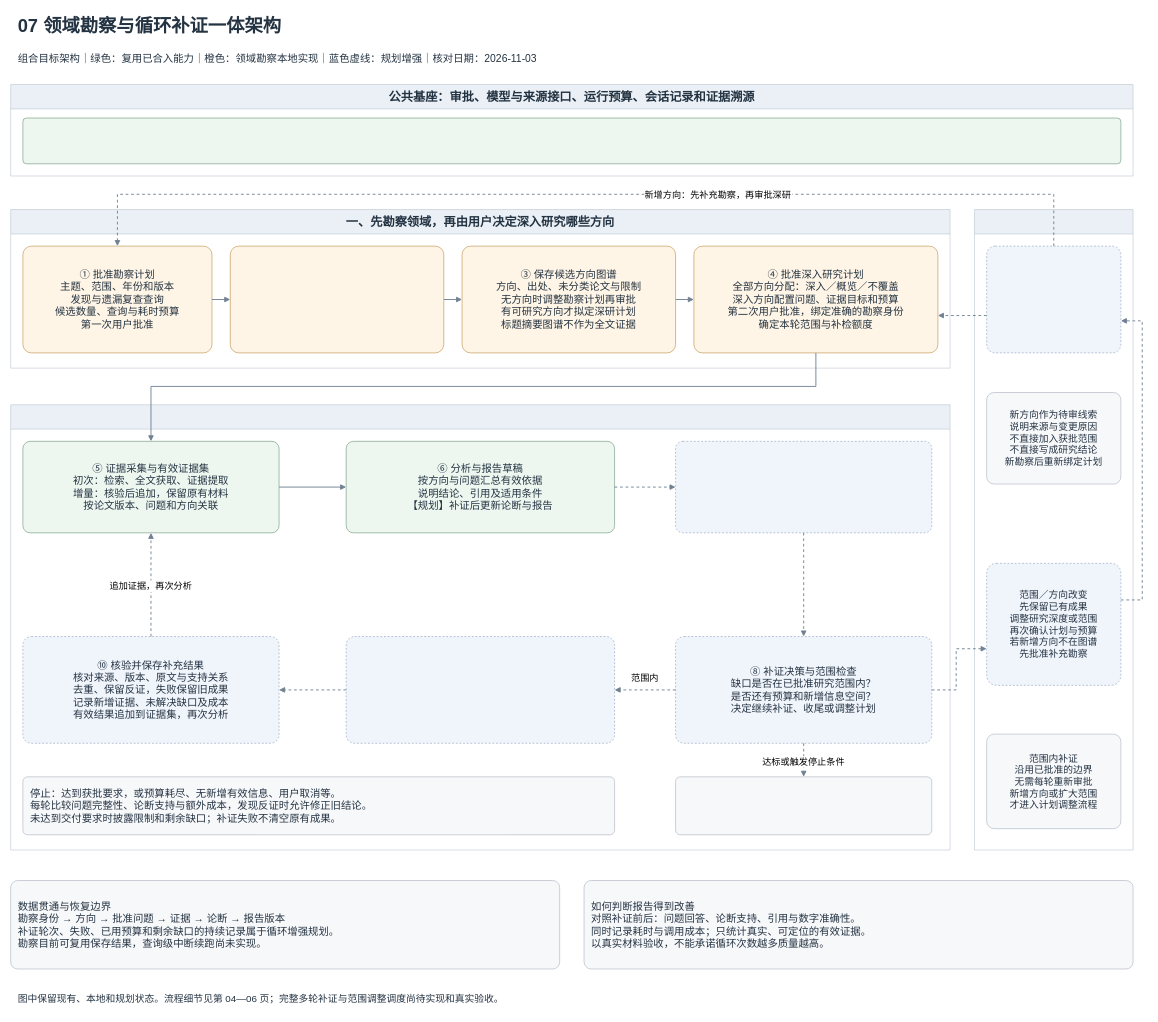
Some shapes in this 1158 by 1022 pixel diagram are drawn without their labels. Each missing label, with the box of its shape:
② 发现候选方向 检索标题摘要、复查遗漏 去重并核对日期与论文版本 模型归类，核验支持摘录 本阶段不提取全文研究证据: (230, 246, 444, 353)
⑦ 逐方向检查报告质量 已有基础：证据目标与引用核查 【规划】检查论断、数字、条件与反证 形成可以补检或补读的缺口清单: (675, 441, 932, 533)
⑨ 定向补检或补读 把缺口转成查询与阅读目标 优先补读已有材料，再按需找新论文 补齐论断依据、实验条件和相反证据 不得擅自扩大获批范围: (346, 636, 615, 743)
二、在获批范围内深入研究，围绕报告缺口循环补证: (10, 404, 950, 850)
复用已合入的模型调用、检索、会话存储、超时与部分成果保留能力。 领域勘察和循环补证共同关联计划、方向、问题、证据与报告；新增多轮调度和恢复记录仍属规划。: (22, 117, 1121, 164)
报告交付与剩余缺口 按批准要求判断正式报告或草稿 无有效证据不生成研究结论: (675, 776, 932, 835)
范围变化与重新审批: (974, 209, 1133, 850)
重新审批后再执行 已有方向的范围变化 → 回到深研审批 新增图谱之外的方向 → 回到勘察审批: (986, 246, 1121, 353)
